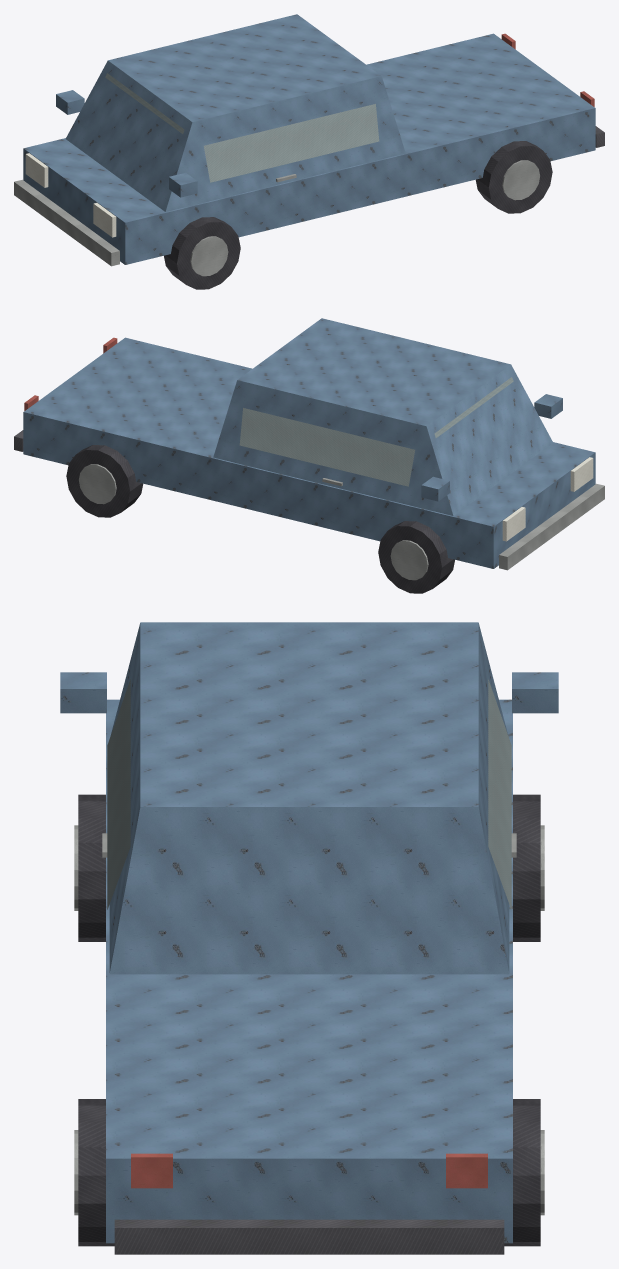
Rendered from vehicle_sedan.glb.
3 views of the same model, one above another, from view 1: azimuth 30°, elevation 25°; view 2: azimuth 150°, elevation 25°; view 3: azimuth 270°, elevation 25° (orthographic). The views are drawn at different scales.
Parts seen in each view (by area): view 1: vehicle_sedan; view 2: vehicle_sedan; view 3: vehicle_sedan.
Boxes of the visible parts, x1=… form: vehicle_sedan: x1=14, y1=14, x2=604, y2=289; vehicle_sedan: x1=14, y1=318, x2=604, y2=593; vehicle_sedan: x1=60, y1=622, x2=558, y2=1254.
Bounding box in the file's own units: 4.64 × 1.4 × 2.03.
Materials: 7 (7 with a texture image).
